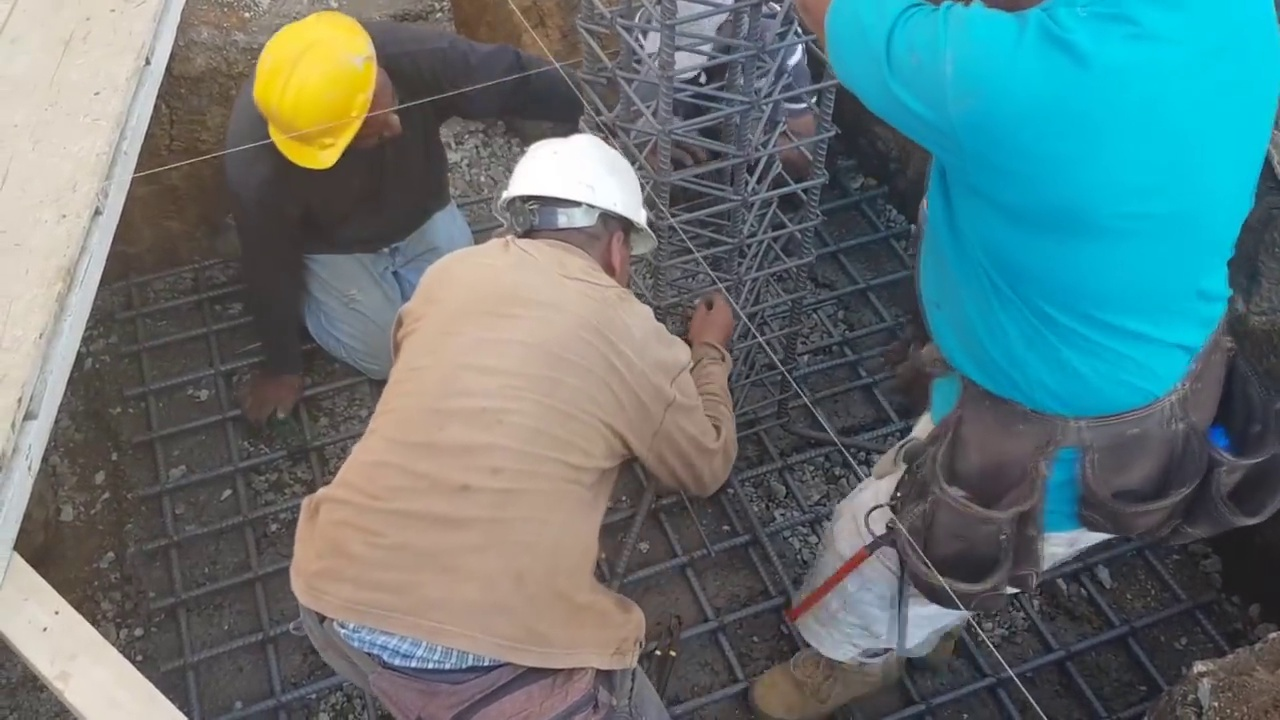helmet: (495, 128, 647, 252), (256, 10, 373, 167)
helmet-on: (488, 118, 657, 291), (239, 7, 397, 183)
person: (783, 0, 1272, 659), (271, 111, 733, 712), (216, 6, 532, 400), (627, 0, 850, 173)
